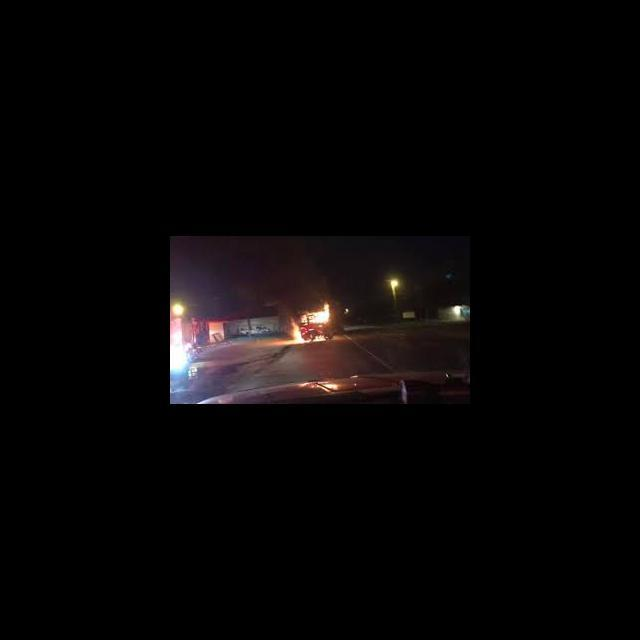Fire: (302, 302, 332, 326), (286, 319, 302, 345)
